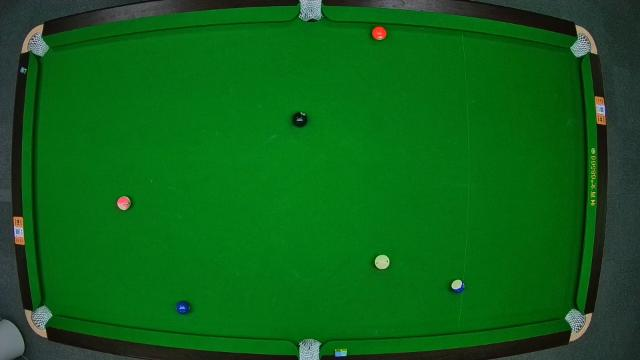bag1: (27, 34, 48, 54)
bag2: (298, 0, 322, 22)
bag3: (572, 36, 592, 56)
bag4: (32, 305, 48, 329)
bag5: (298, 342, 320, 358)
bag6: (565, 311, 585, 331)
ball0: (374, 254, 390, 270)
ball10: (450, 280, 466, 295)
ball12: (116, 196, 132, 212)
ball2: (176, 300, 194, 316)
ball5: (372, 26, 388, 40)
ball8: (292, 110, 308, 127)
